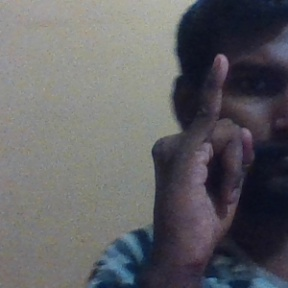I: (150, 54, 254, 254)
